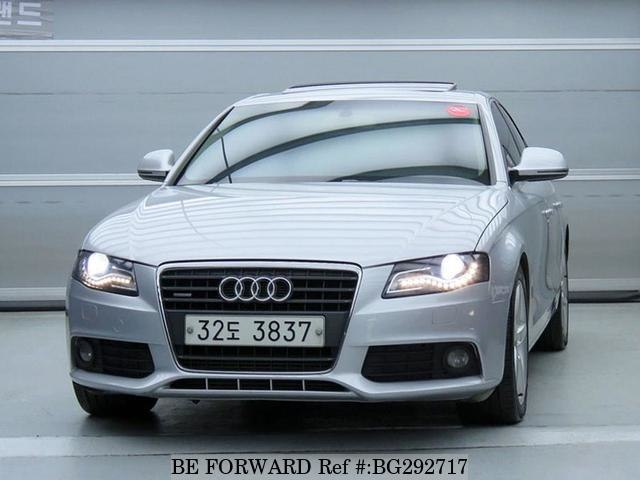audi: (215, 272, 296, 303)
